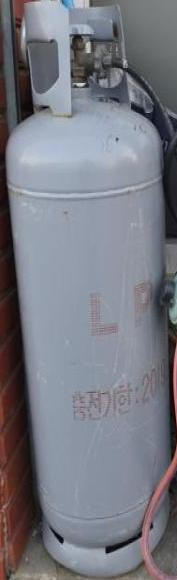cylinder: (1, 0, 177, 580)
